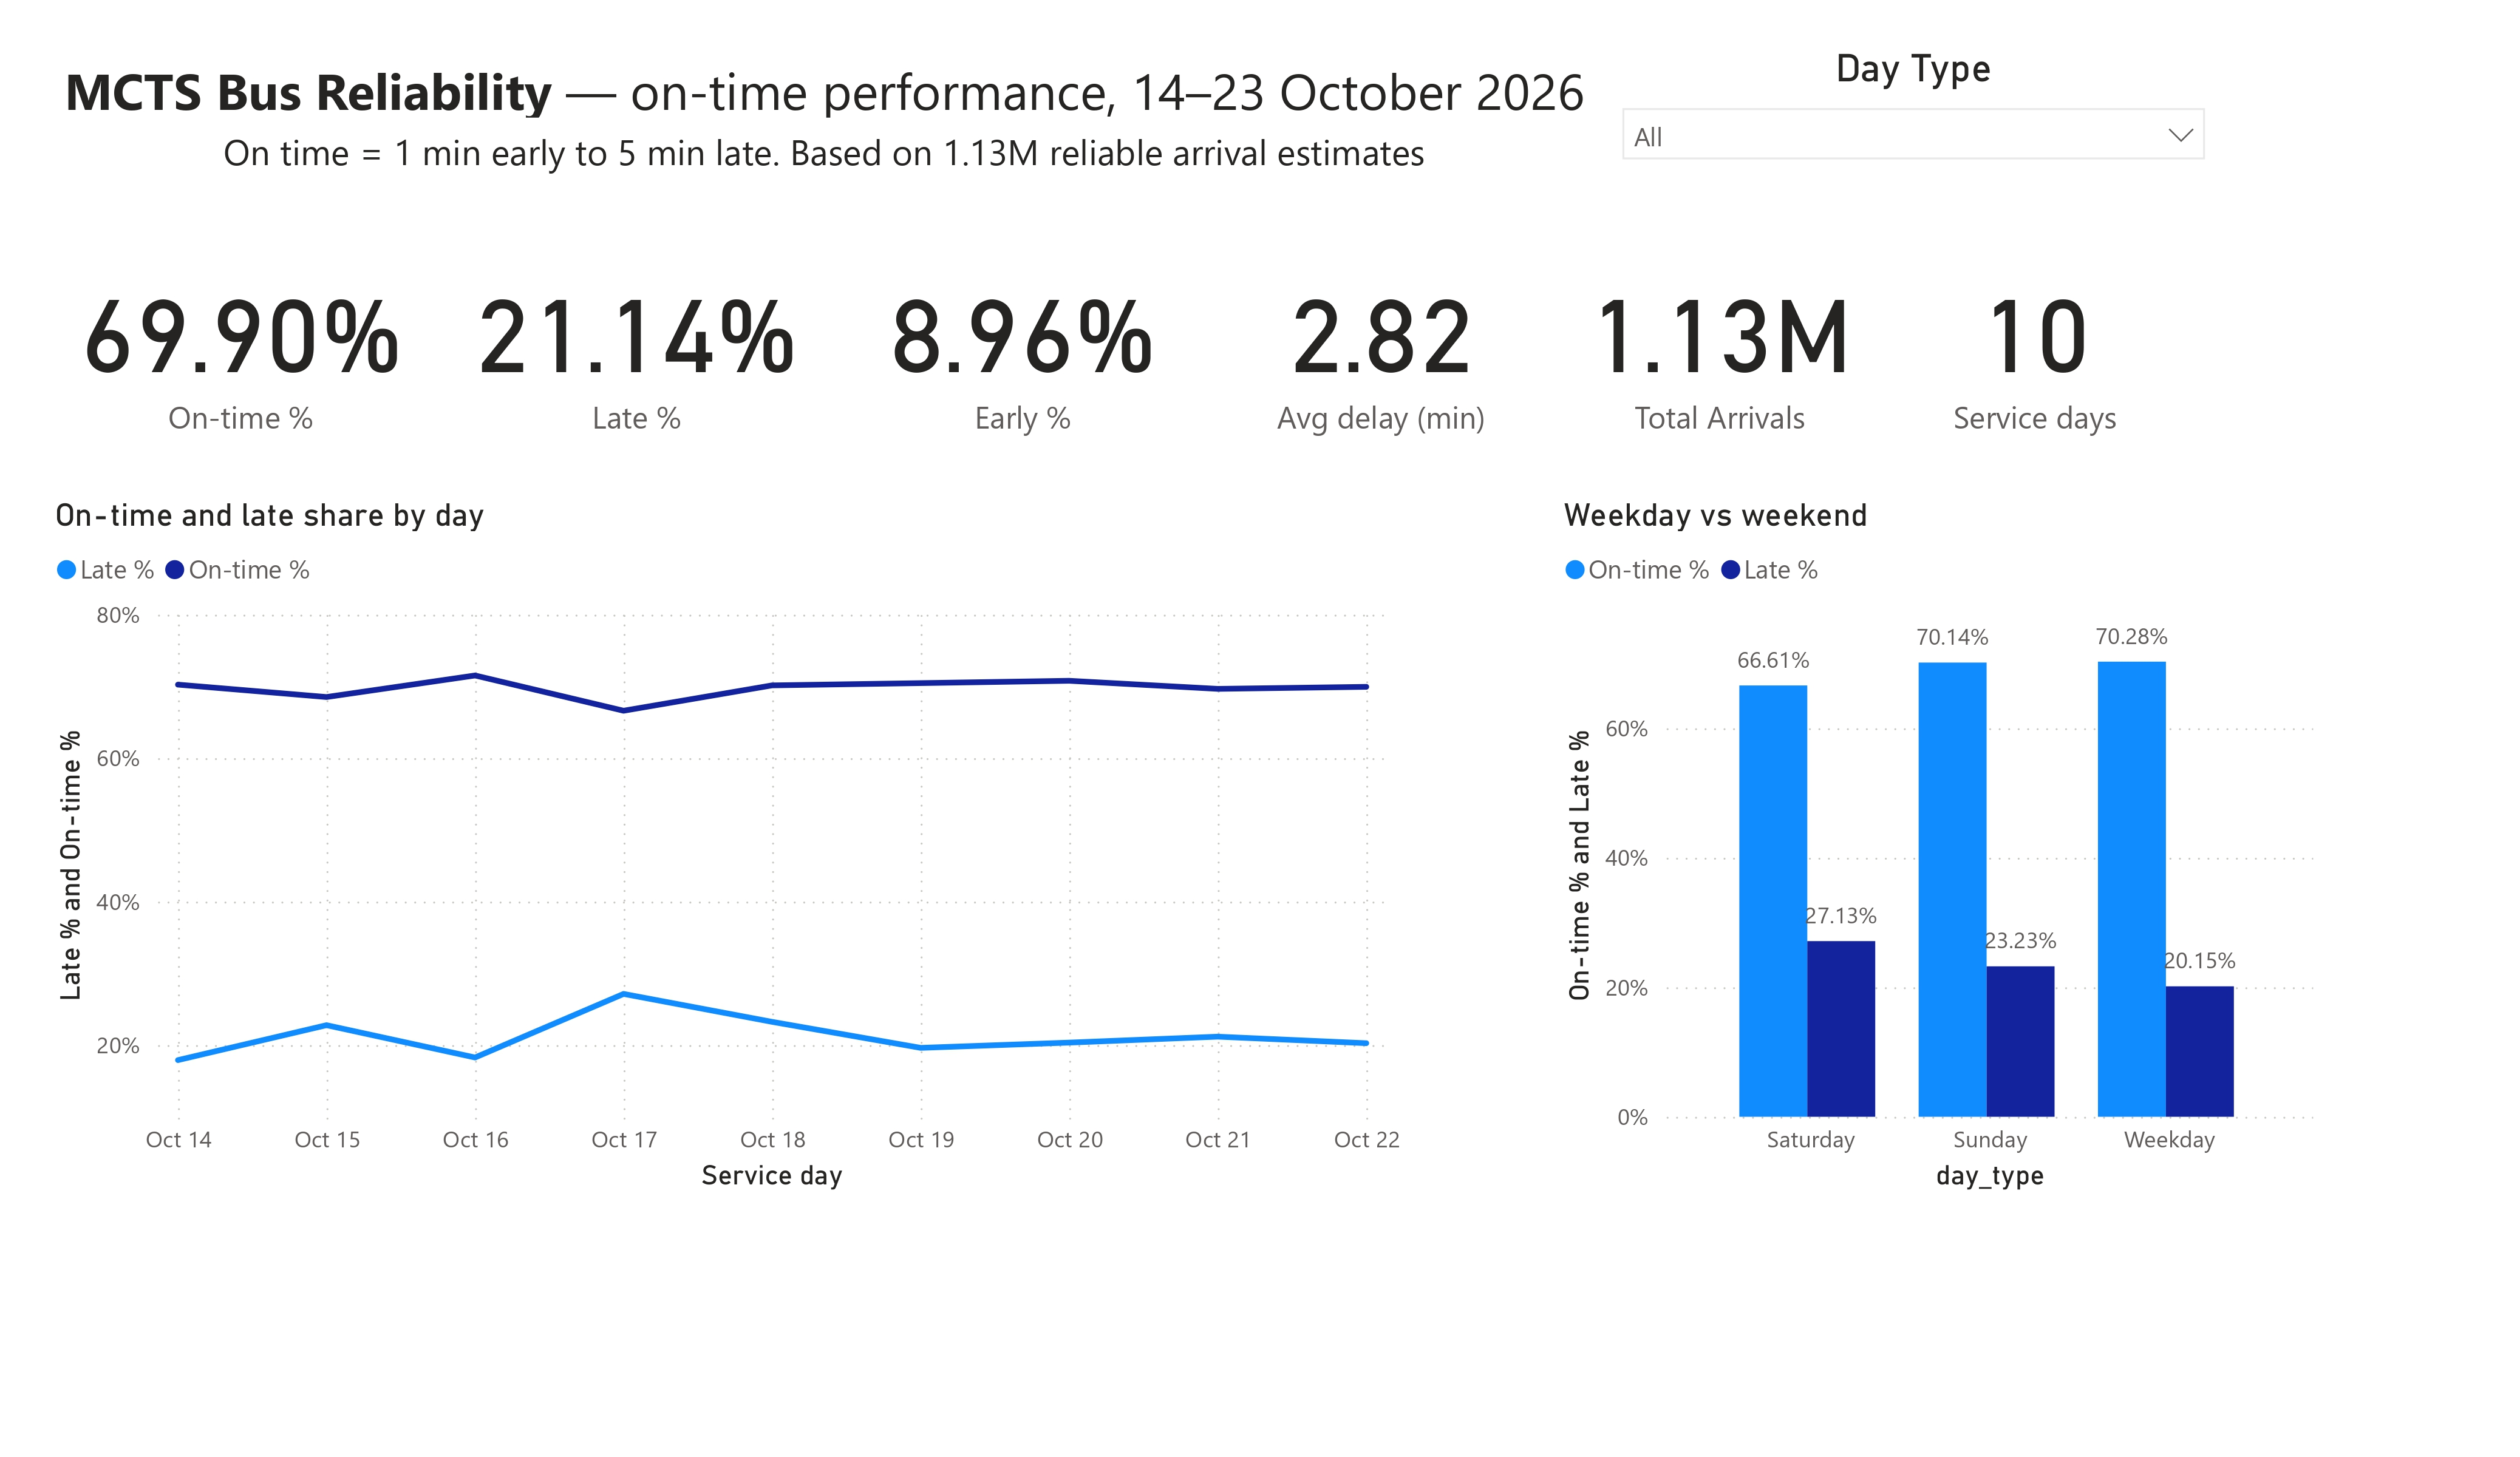

The page's visual inventory and layout, read from the dashboard file:
{"tool":"powerbi","page":{"name":"Overview","canvas":[1280,720],"ordinal":0},"visuals":[{"type":"textbox","box":[0,0,821.4,76.5],"z":0},{"type":"textbox","box":[0,38.2,821.4,38.2],"z":1000},{"type":"card","fields":{"Values":["_Measures.On-time %"]},"box":[0,97.8,206.4,117.9],"z":2000},{"type":"card","fields":{"Values":["_Measures.Late %"]},"box":[206.4,97.8,211.1,117.9],"z":3000},{"type":"card","fields":{"Values":["_Measures.Early %"]},"box":[417.5,97.8,195.5,117.9],"z":4000},{"type":"card","fields":{"Values":["_Measures.Avg delay (min)"]},"box":[613,97.8,181.6,117.9],"z":5000},{"type":"card","fields":{"Values":["_Measures.Total Arrivals"]},"box":[794.6,97.8,175.4,117.9],"z":6000},{"type":"card","fields":{"Values":["_Measures.Service days"]},"box":[969.9,97.8,156.7,117.9],"z":7000},{"type":"lineChart","title":"On-time and late share by day","fields":{"Y":["_Measures.Late %","_Measures.On-time %"],"Category":["mart_route_daily.service_date"]},"box":[0,237.4,718.5,370.9],"z":8000},{"type":"clusteredColumnChart","title":"Weekday vs weekend","fields":{"Category":["mart_route_daily.day_type"],"Y":["_Measures.On-time %","_Measures.Late %"]},"box":[794.6,237.4,405,370.9],"z":9000},{"type":"slicer","title":"Day Type","fields":{"Values":["mart_route_daily.day_type"]},"box":[821,0,327.5,77.6],"z":10000}]}

Visuals, with their boxes on the page's 1280x720 design canvas (x1, y1, x2, y2). These are canvas units, not pixel positions in the 2520x1457 screenshot, which may show the page scaled, cropped or inside an application window:
textbox: region(0, 0, 821, 76)
textbox: region(0, 38, 821, 76)
card - _Measures.On-time %: region(0, 98, 206, 216)
card - _Measures.Late %: region(206, 98, 418, 216)
card - _Measures.Early %: region(418, 98, 613, 216)
card - _Measures.Avg delay (min): region(613, 98, 795, 216)
card - _Measures.Total Arrivals: region(795, 98, 970, 216)
card - _Measures.Service days: region(970, 98, 1127, 216)
"On-time and late share by day" lineChart: region(0, 237, 718, 608)
"Weekday vs weekend" clusteredColumnChart: region(795, 237, 1200, 608)
"Day Type" slicer: region(821, 0, 1148, 78)
